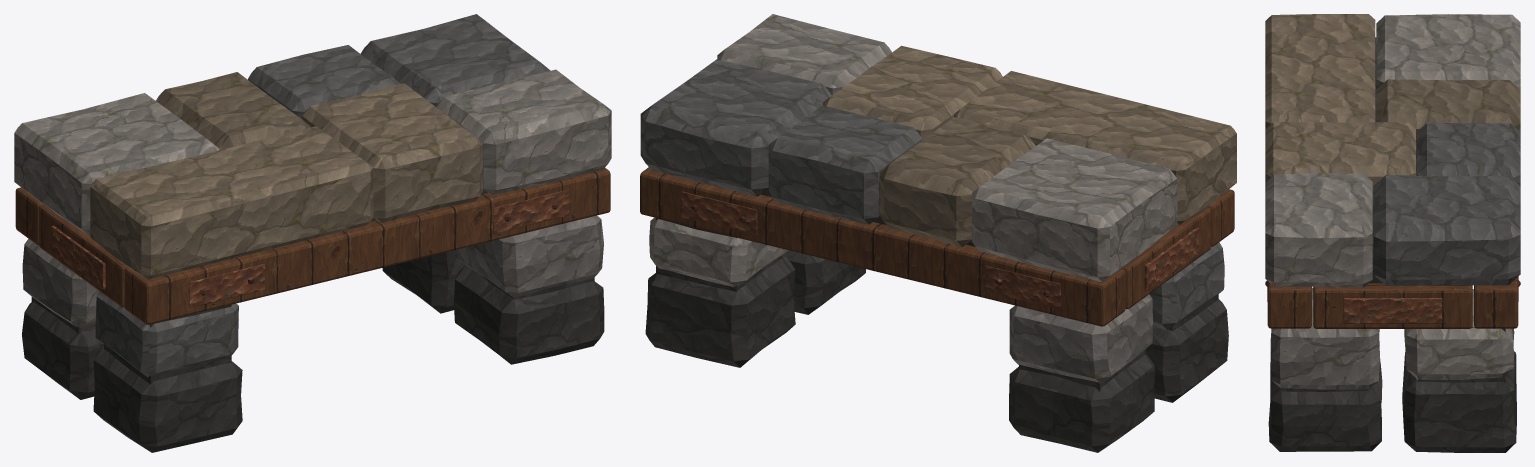
The model's file is foundation_half__cut_stone.glb.
The picture shows the model from 3 angles, left to right: view 1: azimuth 30°, elevation 25°; view 2: azimuth 150°, elevation 25°; view 3: azimuth 270°, elevation 25°; orthographic projection. The views are drawn at different scales.
Parts seen in each view (by area): view 1: model; view 2: model; view 3: model.
Boxes of the visible parts, x1=… form: model: x1=14, y1=14, x2=611, y2=452; model: x1=640, y1=14, x2=1236, y2=452; model: x1=1265, y1=14, x2=1520, y2=452.
Size of the model in its own units: 1.99 by 0.9809 by 0.984.
Materials: 9 (9 with a texture image).
